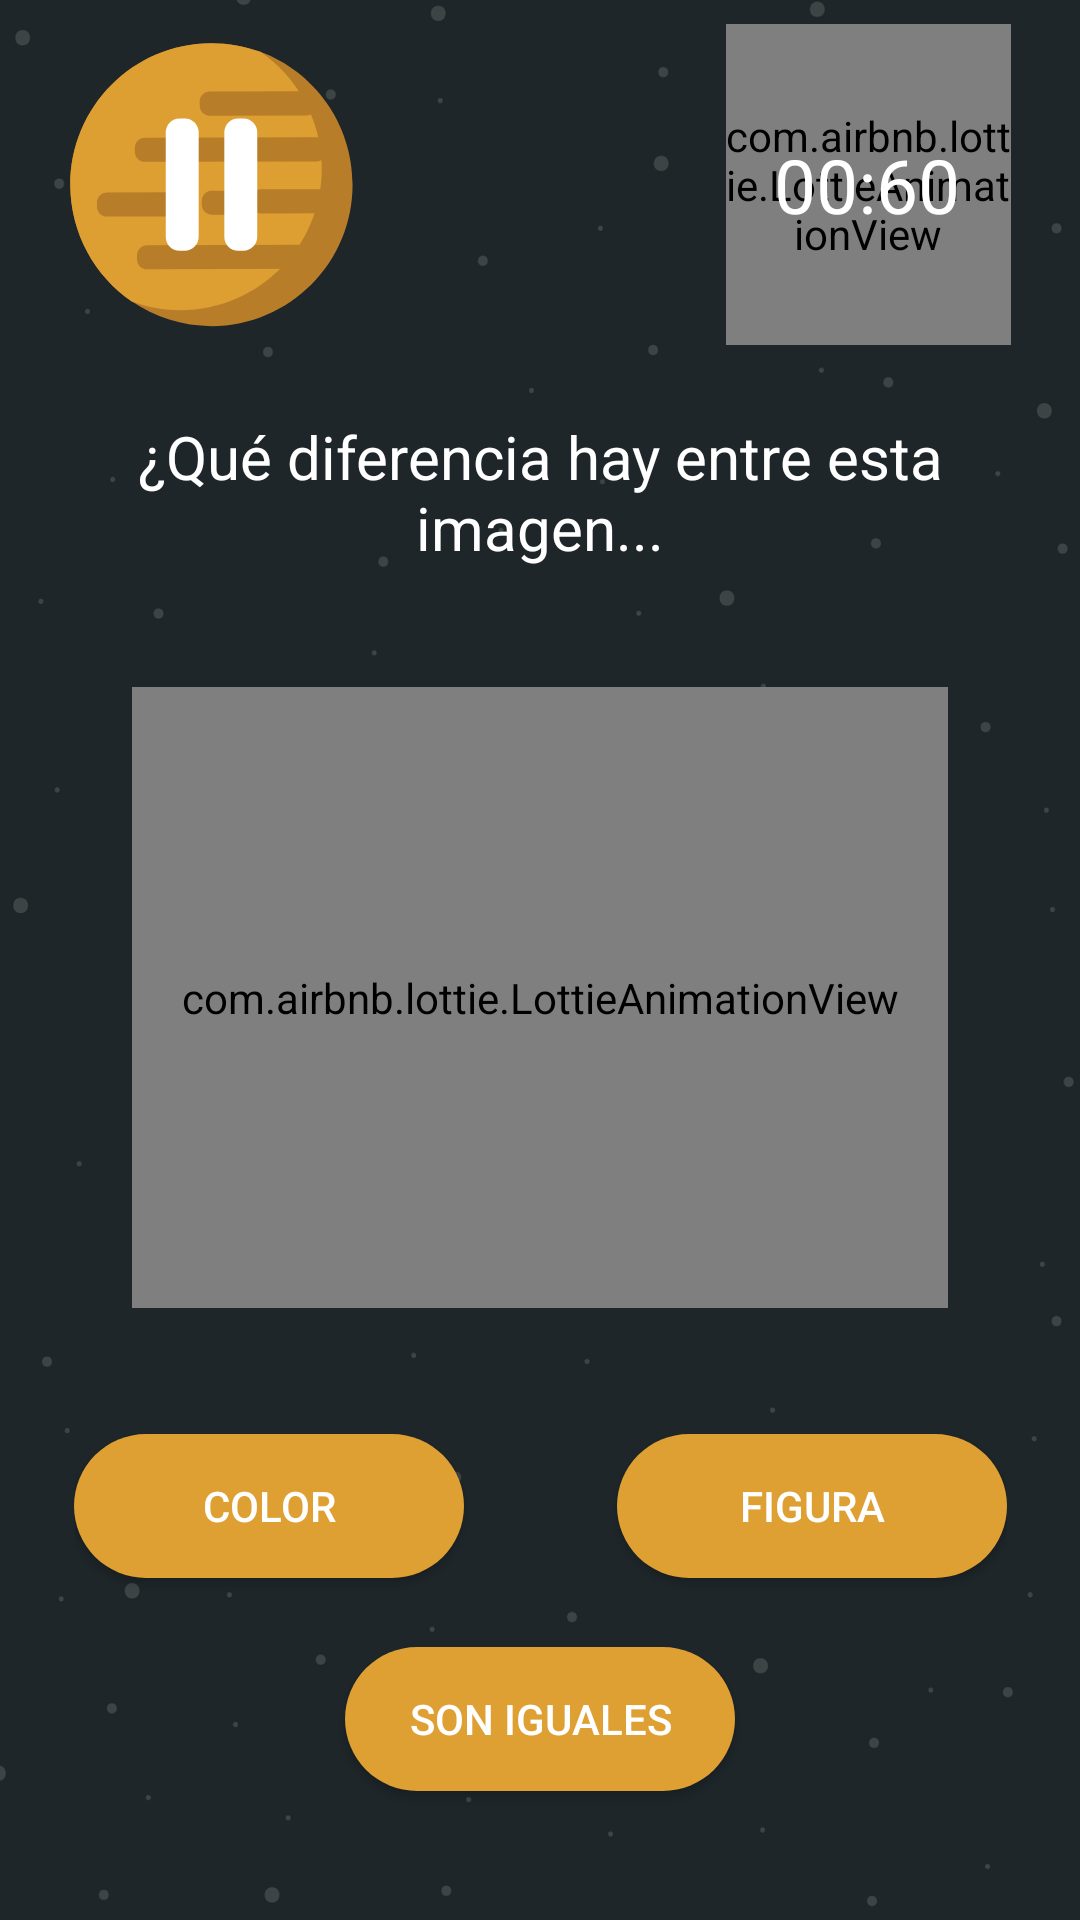

Icon bounding boxes for this 1080x1920 phone screenshot, format (x1, y1, x2, y2):
pausa: (70, 43, 353, 327)
